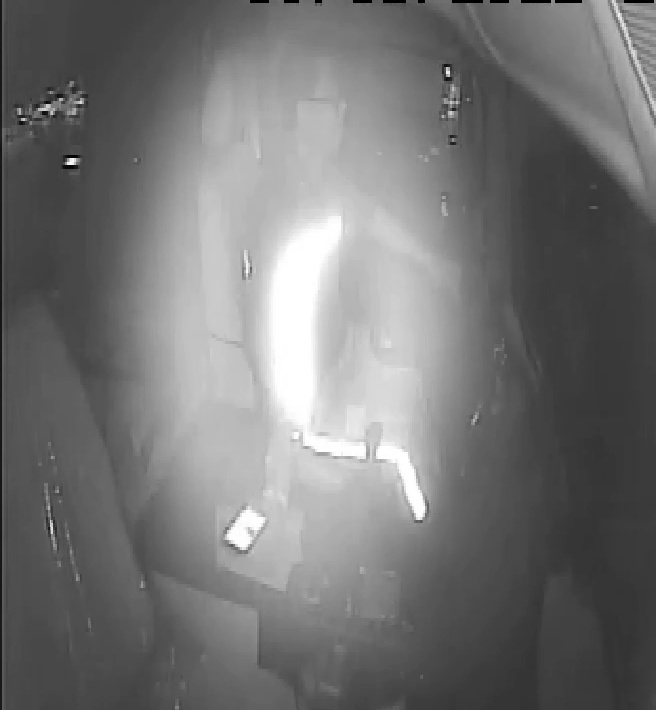cellphone: (220, 502, 269, 548)
